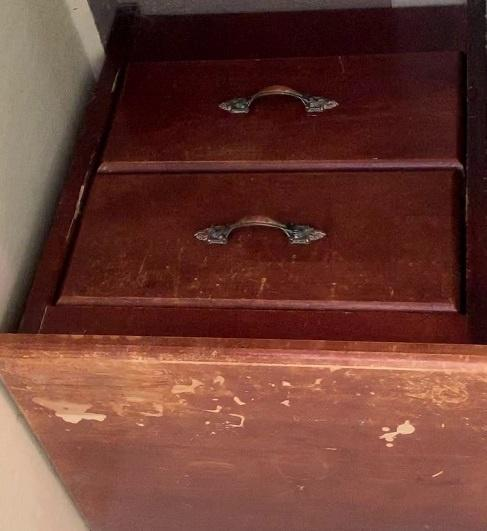cabinet_door: (53, 168, 467, 311), (105, 61, 465, 170)
handle: (191, 216, 331, 253), (215, 85, 340, 122)
